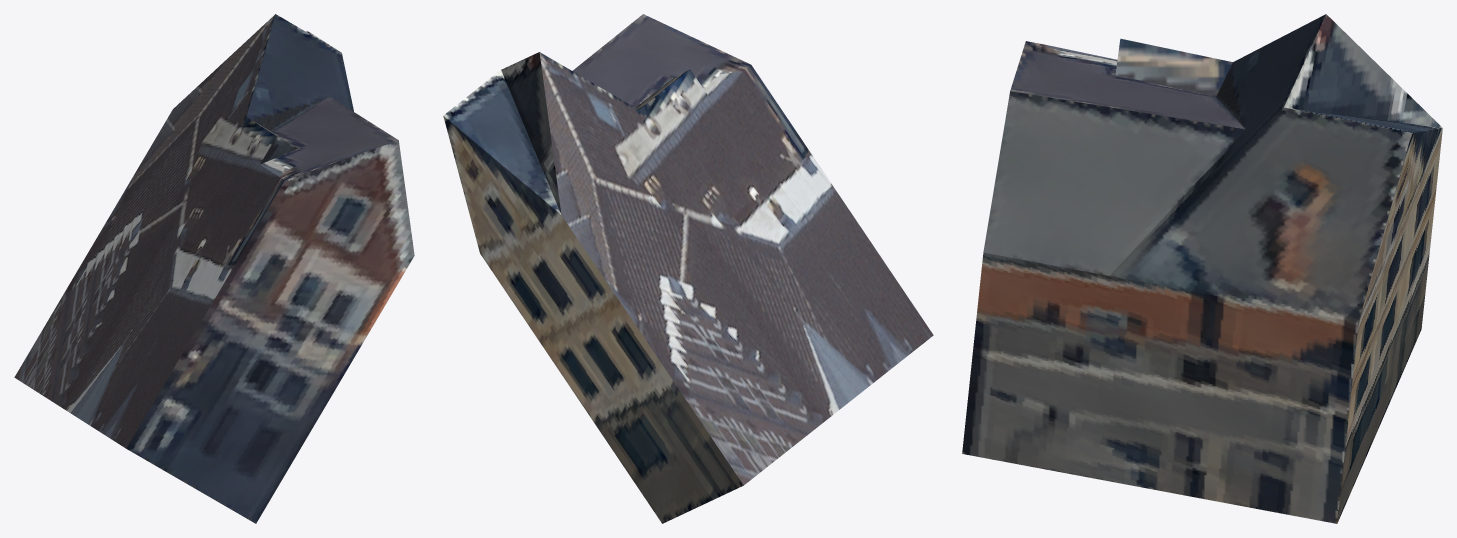
The picture shows the model from 3 angles, left to right: view 1: azimuth 30°, elevation 25°; view 2: azimuth 150°, elevation 25°; view 3: azimuth 270°, elevation 25°; orthographic projection. The views are drawn at different scales.
Parts seen in each view (by area): view 1: BAG_0599100000760482 (×2); view 2: BAG_0599100000760482 (×2); view 3: BAG_0599100000760482 (×2).
Part boxes in pixels (left/top/right/bottom): BAG_0599100000760482 (×2): left=14, top=14, right=414, bottom=523; BAG_0599100000760482 (×2): left=443, top=14, right=933, bottom=523; BAG_0599100000760482 (×2): left=962, top=14, right=1442, bottom=523.
Size of the model in its own units: 14.81 by 18.22 by 13.36.
Materials: 1 (1 with a texture image).
